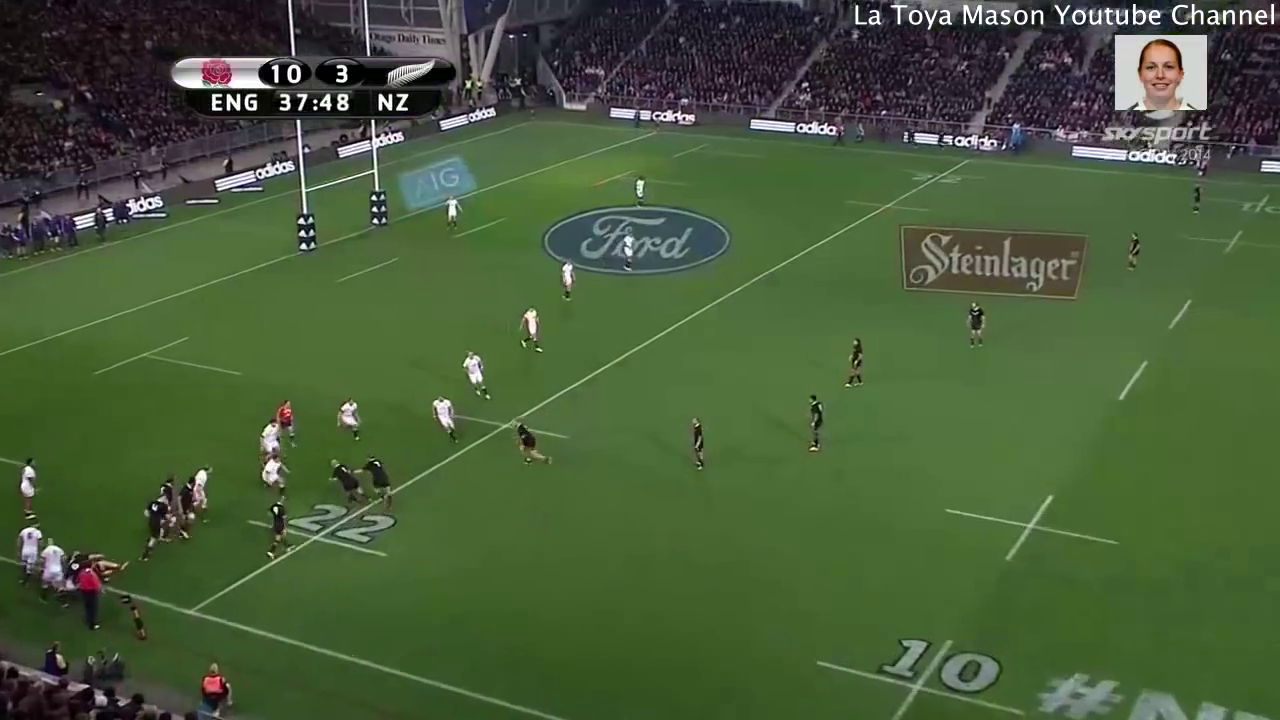10_metre: (813, 624, 1027, 720), (936, 484, 1132, 575), (1176, 222, 1280, 263), (1203, 184, 1280, 223)
player: (258, 494, 303, 570), (351, 446, 399, 511), (325, 452, 376, 510), (834, 332, 876, 399), (133, 493, 173, 563), (511, 415, 555, 472), (798, 387, 830, 463), (423, 393, 465, 449), (455, 345, 495, 403), (251, 447, 294, 498), (684, 410, 717, 476), (960, 290, 992, 355), (170, 471, 199, 542), (332, 394, 369, 446), (270, 398, 302, 455), (515, 303, 545, 355), (255, 414, 284, 463), (556, 255, 582, 306), (197, 453, 215, 520), (616, 229, 640, 274), (1121, 227, 1144, 273), (441, 191, 462, 235), (152, 473, 179, 506), (630, 170, 650, 212), (1189, 176, 1206, 216)
post: (286, 97, 397, 265)
